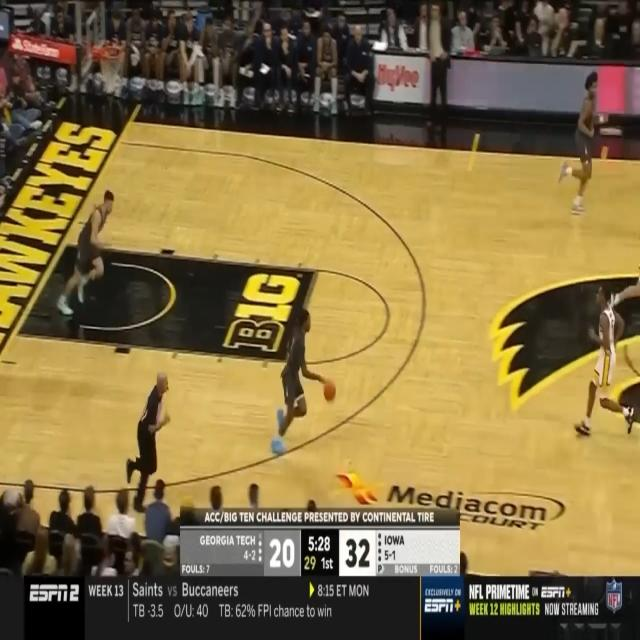Ball: (322, 379, 337, 403)
Hoop: (100, 42, 126, 94)
Overlay: (0, 574, 640, 640), (180, 507, 460, 576)
Player: (573, 280, 635, 438), (270, 306, 326, 455), (558, 68, 608, 215), (58, 188, 114, 315), (608, 219, 640, 317)
Ref: (125, 367, 171, 514)
Scoreboard: (180, 531, 460, 576)
